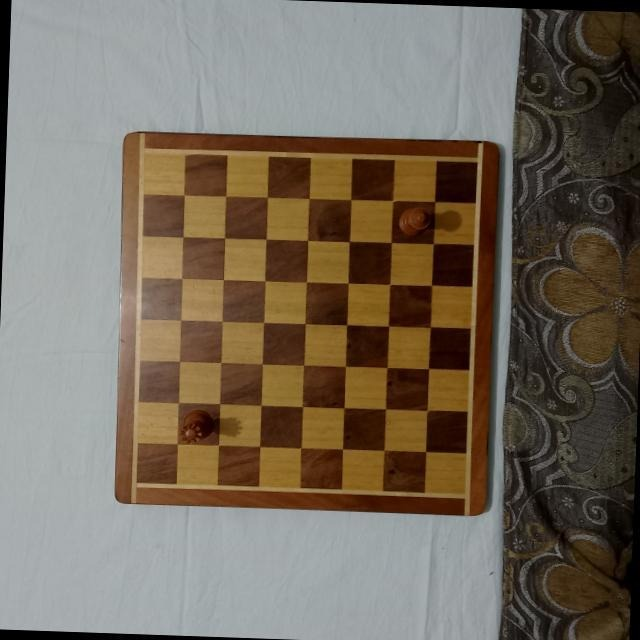white-king: (396, 204, 431, 236)
white-queen: (177, 408, 215, 443)
